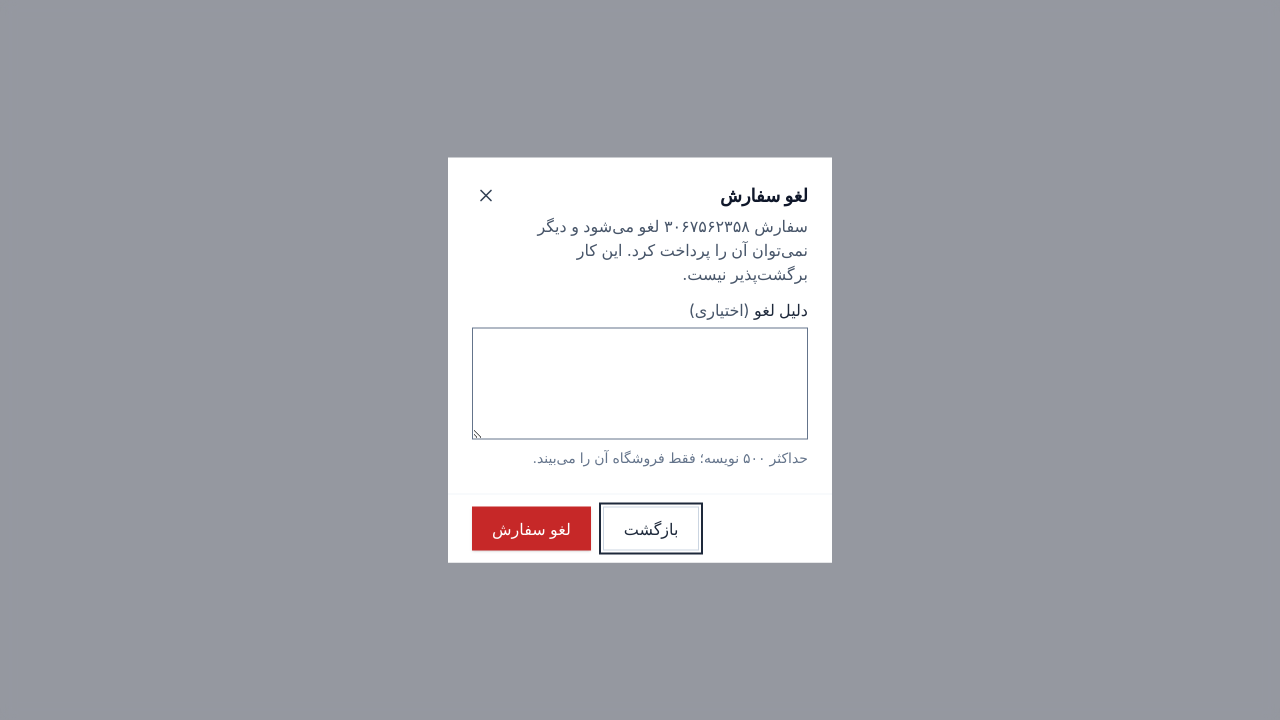
Test: refused › 409 order_receipt_pending: said, the order read again, only «بازگشت» left
This screenshot has width=1280, height=720.
Click the button "لغو سفارش".
click(531, 528)  # box [472, 506, 591, 550]
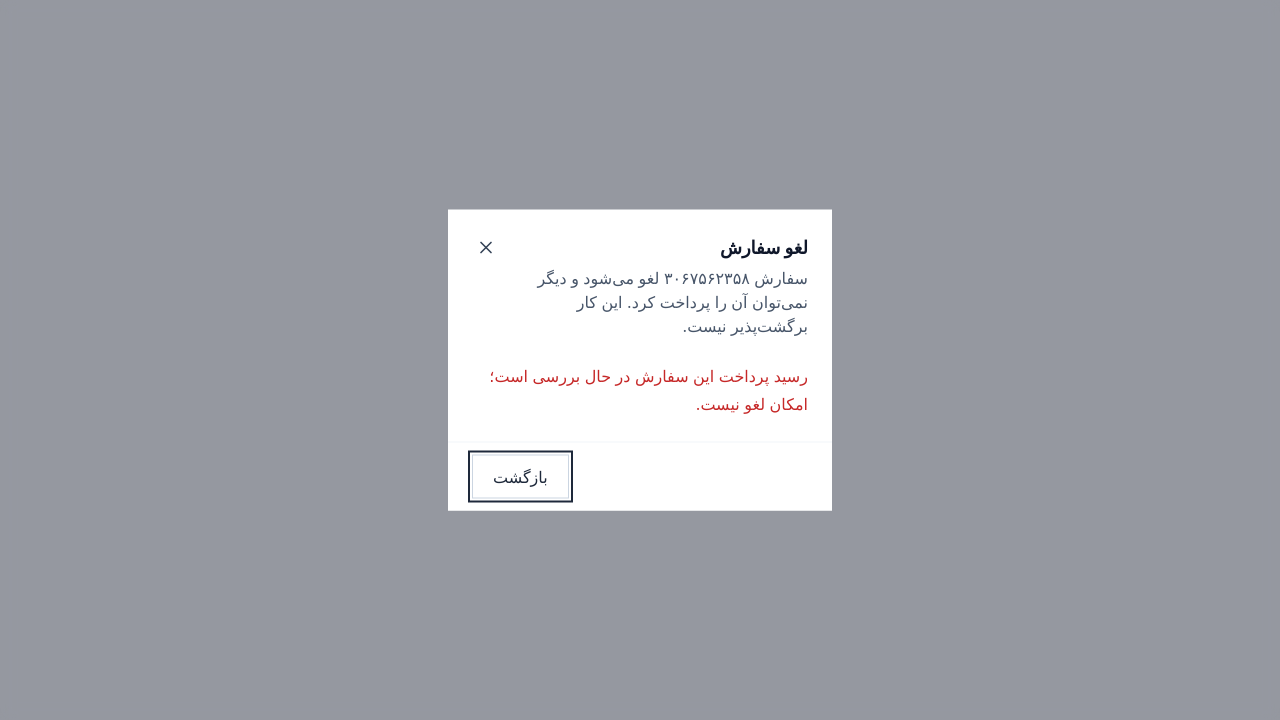
Expected: the message shows "رسید پرداخت این سفارش در حال بررسی است", [489, 366, 808, 414]
